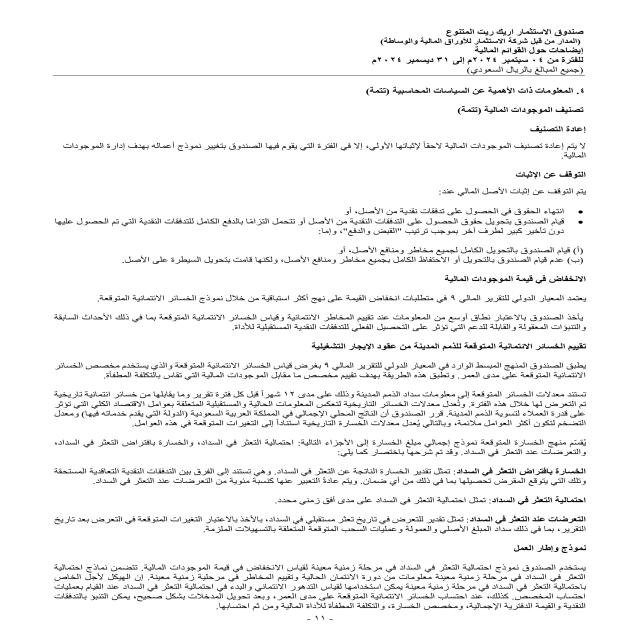notes: (470, 48, 590, 55)
text: (20, 86, 588, 614)
